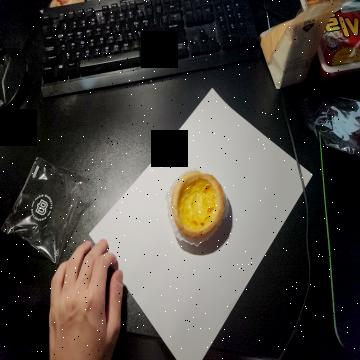EggTart: (170, 170, 225, 240)
